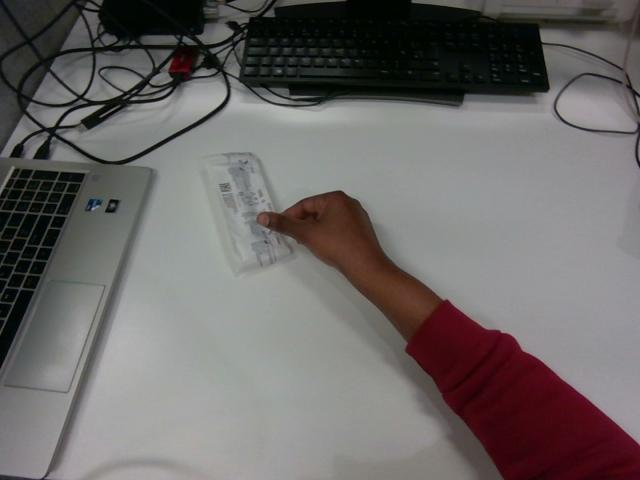syringe: (205, 153, 291, 273)
